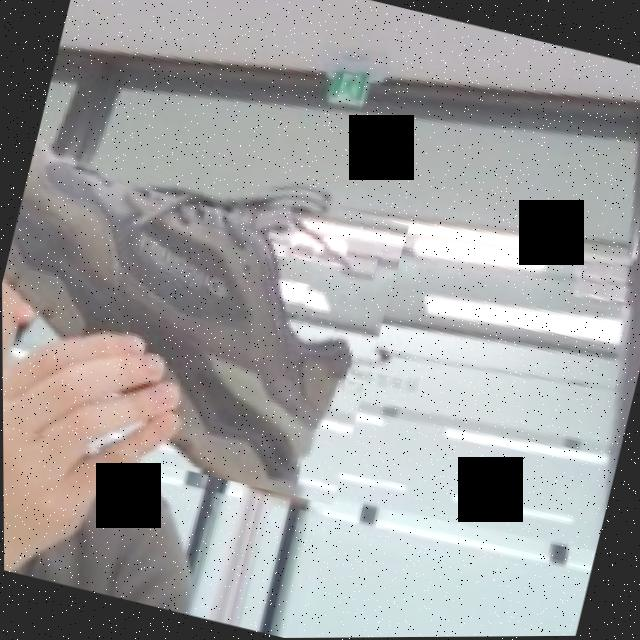shoe: (1, 120, 413, 509)
